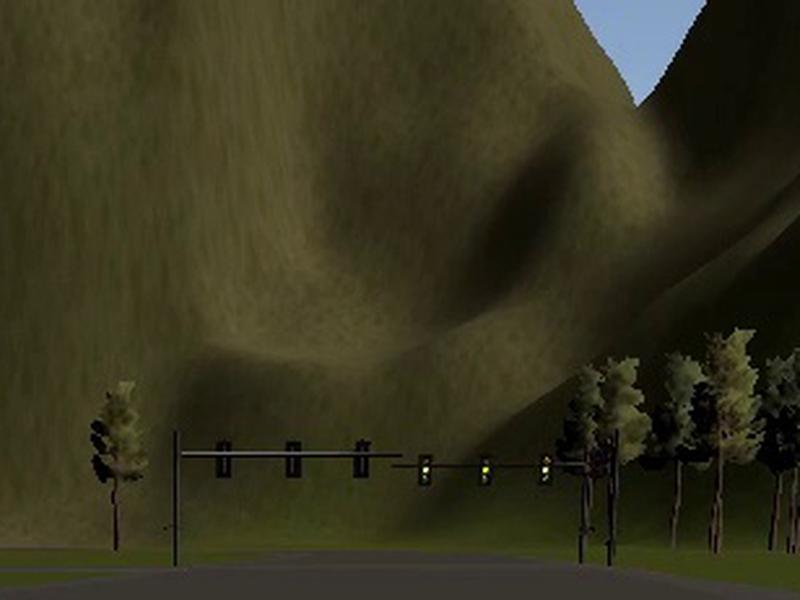Yellow: (537, 454, 553, 486), (477, 456, 493, 486), (418, 453, 432, 485)
